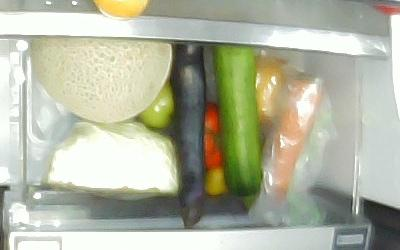cabbage: (45, 121, 180, 200)
carrot_vinyl: (268, 73, 321, 201)
eggplant: (170, 41, 206, 227)
melon: (30, 37, 171, 124)
pear_vinyl: (254, 55, 287, 126)
tomato: (136, 81, 177, 129), (202, 103, 223, 170)
zucchini: (210, 45, 265, 209)
